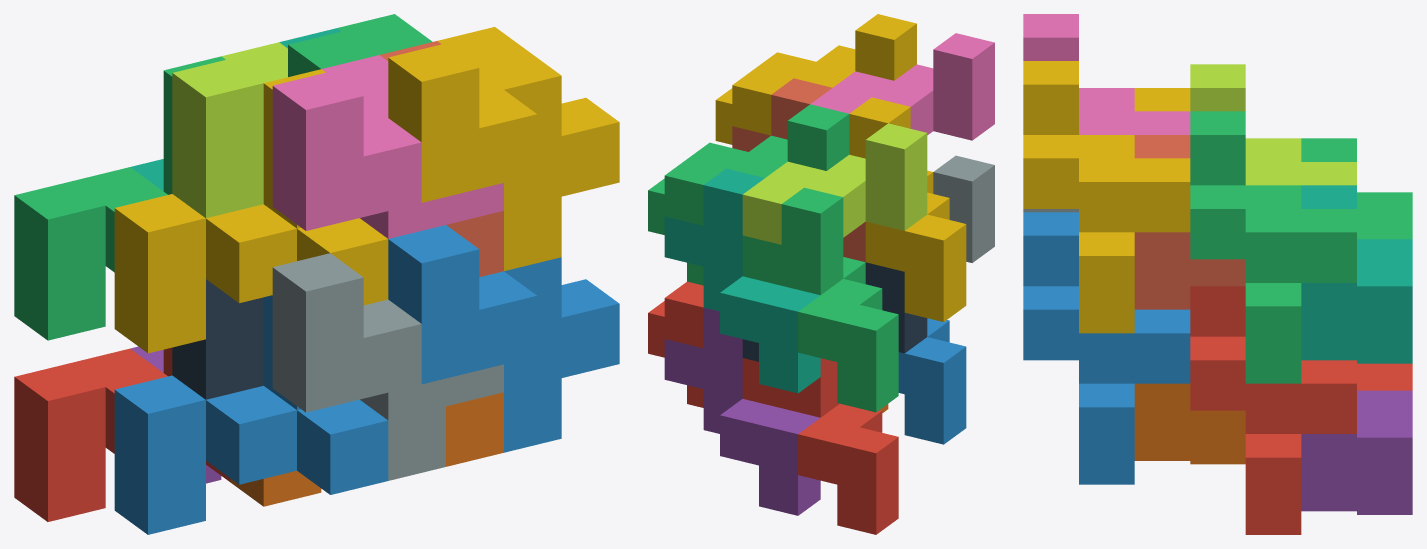
File: tiling.obj
3 renders of one model, left to right at view 1: azimuth 30°, elevation 25°; view 2: azimuth 150°, elevation 25°; view 3: azimuth 270°, elevation 25°, orthographic. The views are drawn at different scales.
Visible parts, largest first — view 1: copy_2_domain_8, copy_1_domain_2, copy_2_domain_6, copy_1_domain_4, copy_2_domain_2, copy_2_domain_4, copy_1_domain_3, copy_1_domain_1, copy_2_domain_3, copy_2_domain_1, copy_1_domain_6, copy_2_domain_7 (+2 smaller); view 2: copy_1_domain_3, copy_1_domain_7, copy_1_domain_5, copy_1_domain_1, copy_2_domain_3, copy_1_domain_4, copy_2_domain_4, copy_2_domain_7, copy_2_domain_8, copy_1_domain_2, copy_2_domain_2, copy_2_domain_5 (+2 smaller); view 3: copy_2_domain_7, copy_2_domain_8, copy_2_domain_6, copy_2_domain_5, copy_1_domain_7, copy_1_domain_5, copy_1_domain_6, copy_1_domain_8, copy_2_domain_3, copy_2_domain_4, copy_1_domain_3, copy_1_domain_1 (+1 smaller).
Boxes of the visible parts, <box> form: copy_2_domain_8: <box>388,27,619,270</box>; copy_1_domain_2: <box>114,295,388,534</box>; copy_2_domain_6: <box>388,225,619,452</box>; copy_1_domain_4: <box>114,69,388,353</box>; copy_2_domain_2: <box>272,253,503,480</box>; copy_2_domain_4: <box>272,55,503,238</box>; copy_1_domain_3: <box>14,56,225,340</box>; copy_1_domain_1: <box>14,347,230,521</box>; copy_2_domain_3: <box>172,42,287,218</box>; copy_2_domain_1: <box>172,279,263,399</box>; copy_1_domain_6: <box>230,392,503,506</box>; copy_2_domain_7: <box>288,14,432,76</box>; copy_1_domain_3: <box>742,187,898,412</box>; copy_1_domain_7: <box>664,168,820,393</box>; copy_1_domain_5: <box>664,307,820,515</box>; copy_1_domain_1: <box>742,358,898,534</box>; copy_2_domain_3: <box>742,123,927,244</box>; copy_1_domain_4: <box>849,97,966,321</box>; copy_2_domain_4: <box>810,33,994,140</box>; copy_2_domain_7: <box>648,104,849,285</box>; copy_2_domain_8: <box>715,14,916,144</box>; copy_1_domain_2: <box>898,318,966,444</box>; copy_2_domain_2: <box>933,155,994,262</box>; copy_2_domain_5: <box>648,281,703,407</box>; copy_2_domain_7: <box>1190,111,1356,383</box>; copy_2_domain_8: <box>1023,61,1190,333</box>; copy_2_domain_6: <box>1023,212,1190,484</box>; copy_2_domain_5: <box>1190,286,1356,534</box>; copy_1_domain_7: <box>1301,185,1412,363</box>; copy_1_domain_5: <box>1301,390,1412,514</box>; copy_1_domain_6: <box>1134,383,1245,464</box>; copy_1_domain_8: <box>1134,135,1245,309</box>; copy_2_domain_3: <box>1190,64,1356,185</box>; copy_2_domain_4: <box>1023,14,1190,134</box>; copy_1_domain_3: <box>1301,138,1412,239</box>; copy_1_domain_1: <box>1357,363,1412,390</box>.
Bounding box in the file's own units: 7 × 9 × 7.
